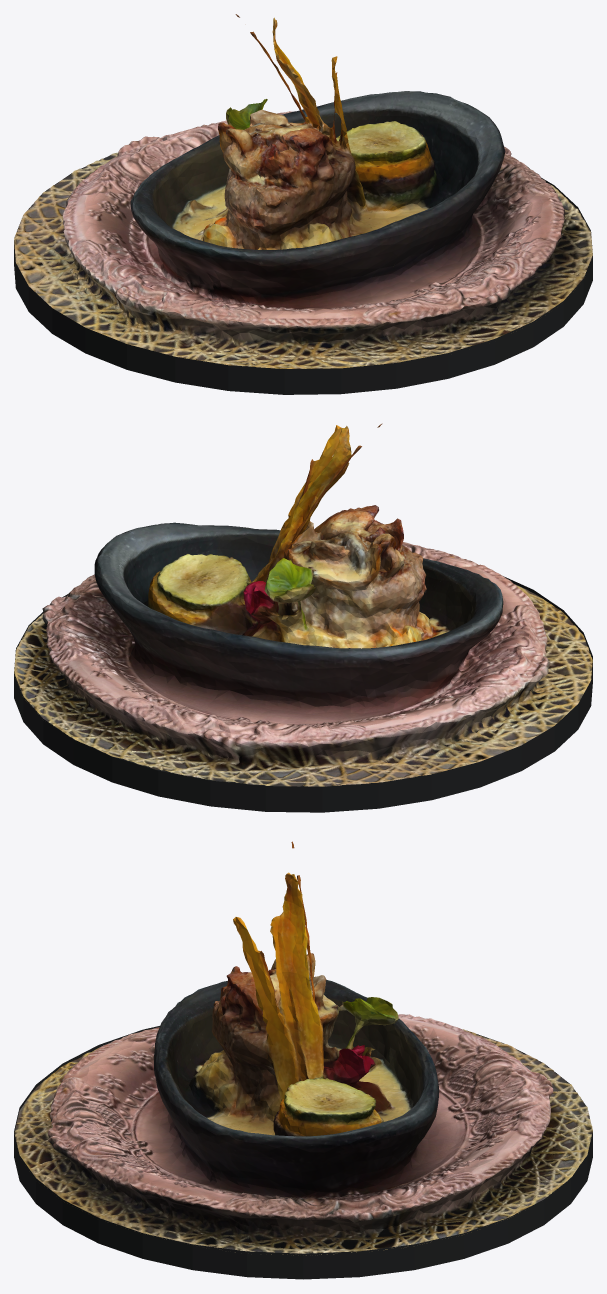
File: 04-Filete-minon.glb
3 renders of one model, top to bottom at view 1: azimuth 30°, elevation 25°; view 2: azimuth 150°, elevation 25°; view 3: azimuth 270°, elevation 25°, orthographic.
Visible parts, largest first — view 1: Cylinder; view 2: Cylinder; view 3: Cylinder.
Part boxes in pixels (x1,y1,x2,y2): Cylinder: (14,14,592,394); Cylinder: (14,423,592,812); Cylinder: (14,841,592,1279).
Bounding box in the file's own units: 0.3 × 0.16 × 0.3.
Materials: 2 (1 with a texture image).
